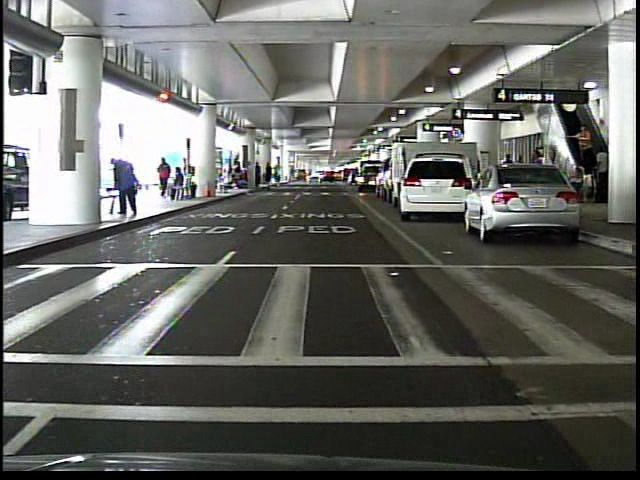person: (110, 151, 142, 219), (571, 120, 596, 169), (591, 143, 611, 195)
